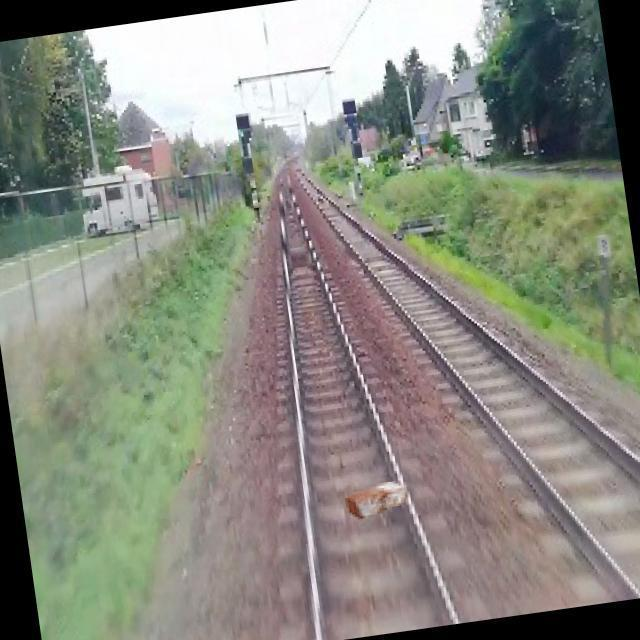rail: (266, 173, 507, 640)
